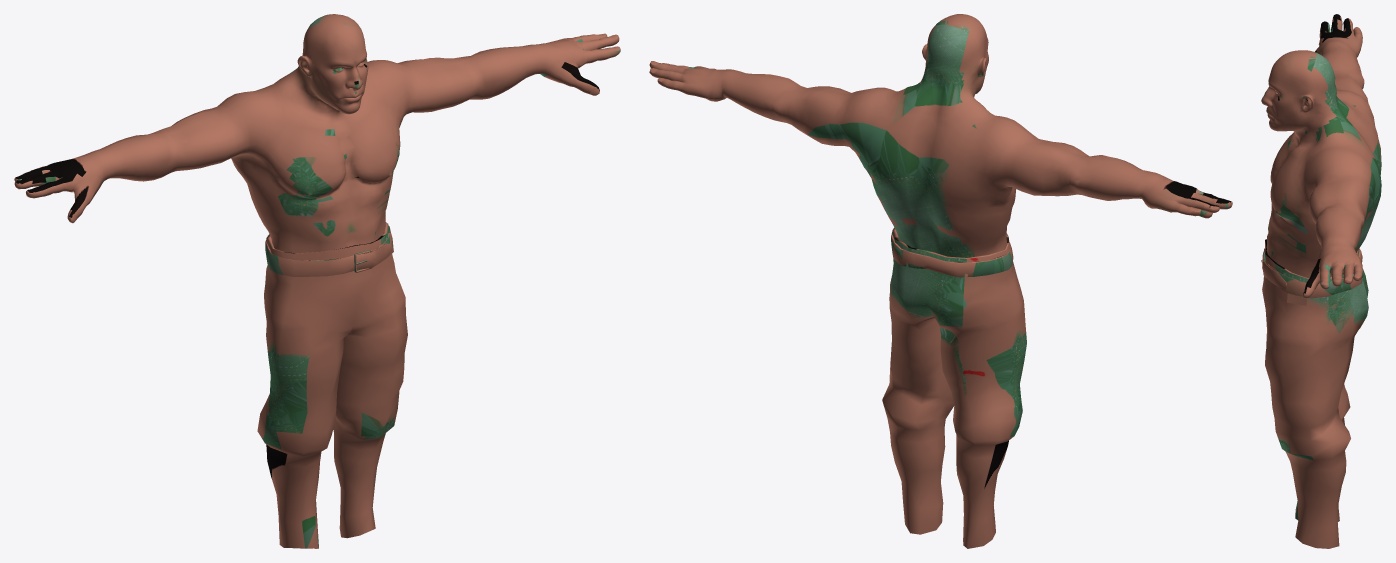
The model's file is CHAR2.obj.
3 renders of one model, left to right at view 1: azimuth 30°, elevation 25°; view 2: azimuth 150°, elevation 25°; view 3: azimuth 270°, elevation 25°, orthographic. The views are drawn at different scales.
Parts seen in each view (by area): view 1: MaleBruteA_Bottoms_Mesh.004; view 2: MaleBruteA_Bottoms_Mesh.004; view 3: MaleBruteA_Bottoms_Mesh.004.
Boxes of the visible parts, x1,y1,x2,y2 form: MaleBruteA_Bottoms_Mesh.004: (14, 14, 620, 548); MaleBruteA_Bottoms_Mesh.004: (649, 14, 1232, 548); MaleBruteA_Bottoms_Mesh.004: (1261, 14, 1381, 548).
Bounding box in the file's own units: 16.07 × 13.5 × 3.05.
